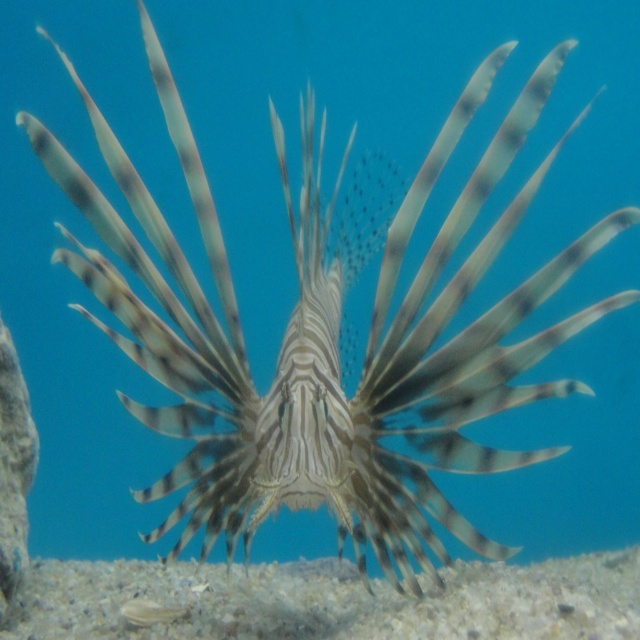Fish: (16, 0, 640, 602)
